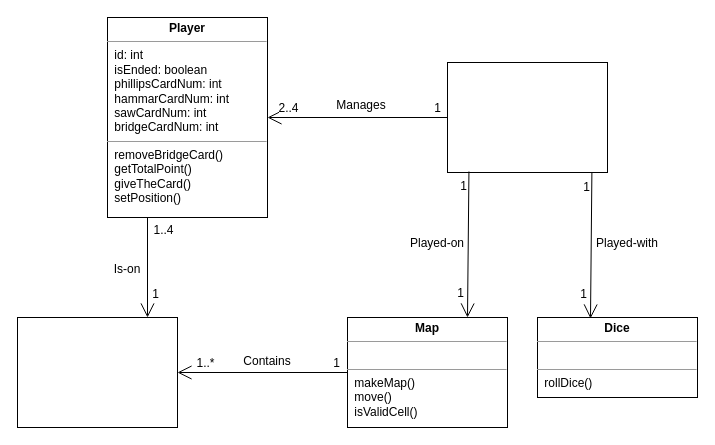
This 715x445 diagram has some shape labels left out. The shapes that lost their labels are listed below. From the top down, each one's centre as x and y in pixels, then its label:
At point (527, 117): "GameMaster endedPlayerCount: int playerNum: int printPlayerInfo() findWinner()".
At point (97, 372): "Cell cellNum: int cellType: String position: Position".
